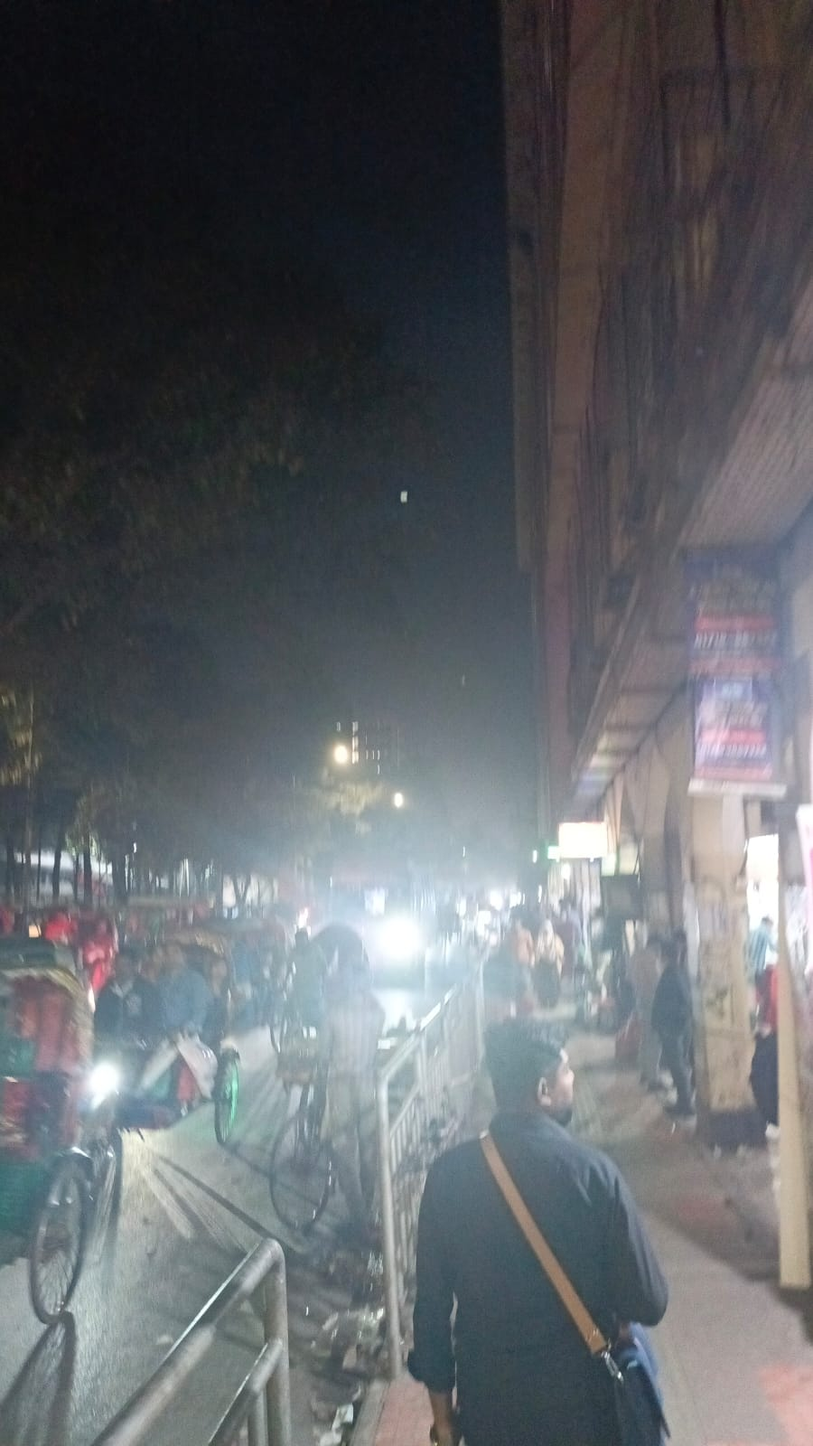auto-ricksaw: (250, 931, 459, 1297), (9, 934, 125, 1334), (96, 916, 274, 1153)
private car: (361, 915, 474, 1055)
